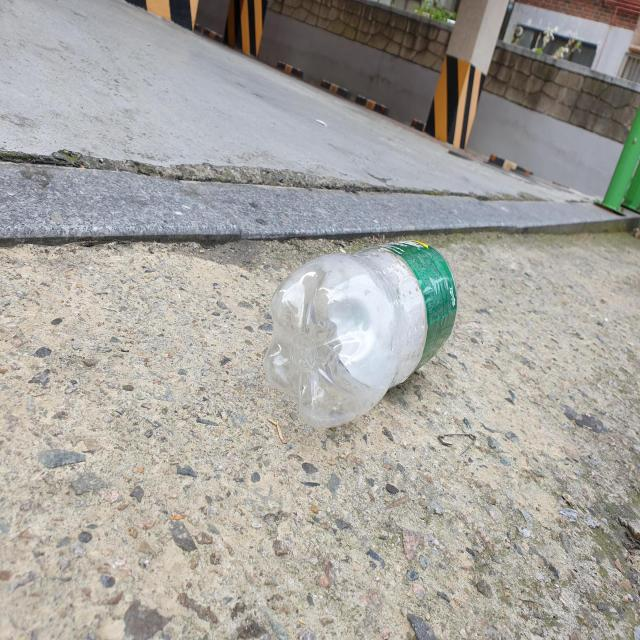plastic: (264, 240, 458, 428)
